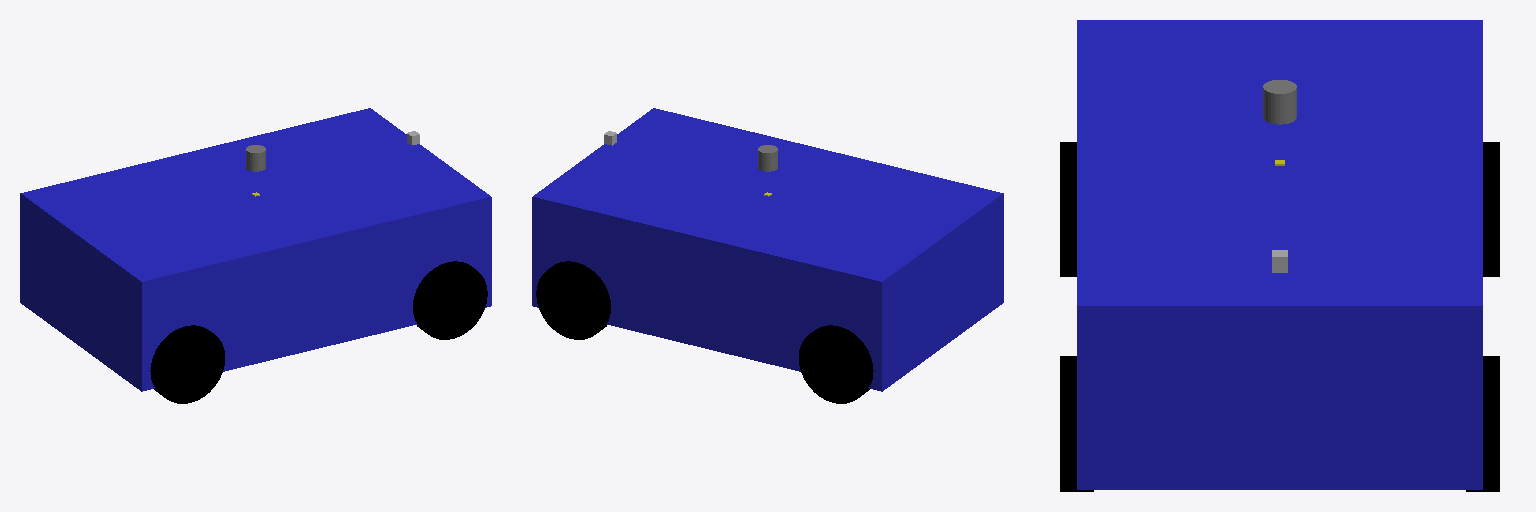
robot.urdf — yoda:
<?xml version="1.0"?>
<robot name="yoda">
  <!-- Material Definitions -->
  <material name="blue">
    <color rgba="0.2 0.2 0.8 1.0"/>
  </material>
  <material name="black">
    <color rgba="0 0 0 1"/>
  </material>
  <material name="gray">
    <color rgba="0.7 0.7 0.7 1.0"/>
  </material>
  <material name="dark_gray">
    <color rgba="0.5 0.5 0.5 1.0"/>
  </material>
  <material name="yellow">
    <color rgba="0.8 0.8 0.2 1.0"/>
  </material>

  <!-- Base Link -->
  <link name="base_link">
    <inertial>
      <mass value="1.0"/>
      <inertia ixx="1.0" ixy="0.0" ixz="0.0" iyy="1.0" iyz="0.0" izz="1.0"/>
    </inertial>
  </link>

  <!-- Chassis -->
  <link name="chassis">
    <visual>
      <geometry>
        <box size="2.0 1.2 0.6"/>
      </geometry>
      <material name="blue"/>
    </visual>
    <collision>
      <geometry>
        <box size="2.0 1.2 0.6"/>
      </geometry>
    </collision>
    <inertial>
      <mass value="50.0"/>
      <inertia ixx="10.0" ixy="0.0" ixz="0.0" iyy="10.0" iyz="0.0" izz="10.0"/>
    </inertial>
  </link>

  <joint name="base_to_chassis" type="fixed">
    <parent link="base_link"/>
    <child link="chassis"/>
    <origin xyz="0 0 0.3" rpy="0 0 0"/>
  </joint>

  <!-- Front Left Wheel -->
  <link name="front_left_wheel">
    <visual>
      <geometry>
        <cylinder radius="0.2" length="0.1"/>
      </geometry>
      <material name="black"/>
    </visual>
    <collision>
      <geometry>
        <cylinder radius="0.2" length="0.1"/>
      </geometry>
    </collision>
    <inertial>
      <mass value="2.0"/>
      <inertia ixx="0.1" ixy="0.0" ixz="0.0" iyy="0.1" iyz="0.0" izz="0.1"/>
    </inertial>
  </link>

  <joint name="front_left_wheel_joint" type="continuous">
    <parent link="chassis"/>
    <child link="front_left_wheel"/>
    <origin xyz="0.75 0.6 -0.2" rpy="-1.5707 0 0"/>
    <axis xyz="0 0 1"/>
  </joint>

  <!-- Front Right Wheel -->
  <link name="front_right_wheel">
    <visual>
      <geometry>
        <cylinder radius="0.2" length="0.1"/>
      </geometry>
      <material name="black"/>
    </visual>
    <collision>
      <geometry>
        <cylinder radius="0.2" length="0.1"/>
      </geometry>
    </collision>
    <inertial>
      <mass value="2.0"/>
      <inertia ixx="0.1" ixy="0.0" ixz="0.0" iyy="0.1" iyz="0.0" izz="0.1"/>
    </inertial>
  </link>

  <joint name="front_right_wheel_joint" type="continuous">
    <parent link="chassis"/>
    <child link="front_right_wheel"/>
    <origin xyz="0.75 -0.6 -0.2" rpy="-1.5707 0 0"/>
    <axis xyz="0 0 1"/>
  </joint>

  <!-- Rear Left Wheel -->
  <link name="rear_left_wheel">
    <visual>
      <geometry>
        <cylinder radius="0.2" length="0.1"/>
      </geometry>
      <material name="black"/>
    </visual>
    <collision>
      <geometry>
        <cylinder radius="0.2" length="0.1"/>
      </geometry>
    </collision>
    <inertial>
      <mass value="2.0"/>
      <inertia ixx="0.1" ixy="0.0" ixz="0.0" iyy="0.1" iyz="0.0" izz="0.1"/>
    </inertial>
  </link>

  <joint name="rear_left_wheel_joint" type="continuous">
    <parent link="chassis"/>
    <child link="rear_left_wheel"/>
    <origin xyz="-0.75 0.6 -0.2" rpy="-1.5707 0 0"/>
    <axis xyz="0 0 1"/>
  </joint>

  <!-- Rear Right Wheel -->
  <link name="rear_right_wheel">
    <visual>
      <geometry>
        <cylinder radius="0.2" length="0.1"/>
      </geometry>
      <material name="black"/>
    </visual>
    <collision>
      <geometry>
        <cylinder radius="0.2" length="0.1"/>
      </geometry>
    </collision>
    <inertial>
      <mass value="2.0"/>
      <inertia ixx="0.1" ixy="0.0" ixz="0.0" iyy="0.1" iyz="0.0" izz="0.1"/>
    </inertial>
  </link>

  <joint name="rear_right_wheel_joint" type="continuous">
    <parent link="chassis"/>
    <child link="rear_right_wheel"/>
    <origin xyz="-0.75 -0.6 -0.2" rpy="-1.5707 0 0"/>
    <axis xyz="0 0 1"/>
  </joint>

  <!-- Camera -->
  <link name="camera_link">
    <visual>
      <geometry>
        <box size="0.05 0.05 0.05"/>
      </geometry>
      <material name="gray"/>
    </visual>
    <collision>
      <geometry>
        <box size="0.05 0.05 0.05"/>
      </geometry>
    </collision>
    <inertial>
      <mass value="0.1"/>
      <inertia ixx="0.001" ixy="0.0" ixz="0.0" iyy="0.001" iyz="0.0" izz="0.001"/>
    </inertial>
  </link>

  <joint name="camera_joint" type="fixed">
    <parent link="chassis"/>
    <child link="camera_link"/>
    <origin xyz="0.9 0 0.4" rpy="0 0 0"/>
  </joint>

  <!-- LiDAR -->
  <link name="lidar_link">
    <visual>
      <geometry>
        <cylinder radius="0.05" length="0.1"/>
      </geometry>
      <material name="dark_gray"/>
    </visual>
    <collision>
      <geometry>
        <cylinder radius="0.05" length="0.1"/>
      </geometry>
    </collision>
    <inertial>
      <mass value="0.1"/>
      <inertia ixx="0.001" ixy="0.0" ixz="0.0" iyy="0.001" iyz="0.0" izz="0.001"/>
    </inertial>
  </link>

  <joint name="lidar_joint" type="fixed">
    <parent link="chassis"/>
    <child link="lidar_link"/>
    <origin xyz="0 0 0.5" rpy="0 0 0"/>
  </joint>

  <!-- IMU -->
  <link name="imu_link">
    <visual>
      <geometry>
        <box size="0.03 0.03 0.01"/>
      </geometry>
      <material name="yellow"/>
    </visual>
    <collision>
      <geometry>
        <box size="0.03 0.03 0.01"/>
      </geometry>
    </collision>
    <inertial>
      <mass value="0.1"/>
      <inertia ixx="0.001" ixy="0.0" ixz="0.0" iyy="0.001" iyz="0.0" izz="0.001"/>
    </inertial>
  </link>

  <joint name="imu_joint" type="fixed">
    <parent link="chassis"/>
    <child link="imu_link"/>
    <origin xyz="0 0 0.3" rpy="0 0 0"/>
  </joint>

  <!-- Gazebo specific elements -->
  <gazebo reference="chassis">
    <material>Gazebo/Blue</material>
  </gazebo>

  <gazebo reference="front_left_wheel">
    <material>Gazebo/Black</material>
    <mu1 value="1.0"/>
    <mu2 value="1.0"/>
  </gazebo>

  <gazebo reference="front_right_wheel">
    <material>Gazebo/Black</material>
    <mu1 value="1.0"/>
    <mu2 value="1.0"/>
  </gazebo>

  <gazebo reference="rear_left_wheel">
    <material>Gazebo/Black</material>
    <mu1 value="1.0"/>
    <mu2 value="1.0"/>
  </gazebo>

  <gazebo reference="rear_right_wheel">
    <material>Gazebo/Black</material>
    <mu1 value="1.0"/>
    <mu2 value="1.0"/>
  </gazebo>

  <!-- Camera Plugin -->
  <gazebo reference="camera_link">
    <sensor type="camera" name="camera">
      <update_rate>30.0</update_rate>
      <camera name="head">
        <horizontal_fov>1.3962634</horizontal_fov>
        <image>
          <width>800</width>
          <height>600</height>
          <format>R8G8B8</format>
        </image>
        <clip>
          <near>0.02</near>
          <far>300</far>
        </clip>
      </camera>
      <plugin name="camera_controller" filename="libgazebo_ros_camera.so">
        <alwaysOn>true</alwaysOn>
        <updateRate>0.0</updateRate>
        <cameraName>yoda/camera</cameraName>
        <frameName>camera_link</frameName>
        <ros>
          <namespace>/yoda</namespace>
          <argument>~/out:=camera/image_raw</argument>
        </ros>
      </plugin>
    </sensor>
  </gazebo>

  <!-- LiDAR Plugin -->
  <gazebo reference="lidar_link">
    <sensor type="ray" name="lidar">
      <pose>0 0 0 0 0 0</pose>
      <visualize>false</visualize>
      <update_rate>10</update_rate>
      <ray>
        <scan>
          <horizontal>
            <samples>360</samples>
            <resolution>1</resolution>
            <min_angle>-3.14159</min_angle>
            <max_angle>3.14159</max_angle>
          </horizontal>
          <vertical>
            <samples>360</samples>
            <resolution>1</resolution>
            <min_angle>-3.14159</min_angle>
            <max_angle>3.14159</max_angle>
          </vertical>
        </scan>
        <range>
          <min>0.3</min>
          <max>15.0</max>
          <resolution>0.01</resolution>
        </range>
      </ray>
      <plugin name="lidar_controller" filename="libgazebo_ros_ray_sensor.so">
        <ros>
          <namespace>/yoda</namespace>
          <argument>~/out:=lidar/scan</argument>
        </ros>
        <output_type>sensor_msgs/LaserScan</output_type>
        <frame_name>lidar_link</frame_name>
      </plugin>
    </sensor>
  </gazebo>

  <!-- IMU Plugin -->
  <gazebo reference="imu_link">
    <gravity>true</gravity>
    <sensor name="imu_sensor" type="imu">
      <always_on>true</always_on>
      <update_rate>100</update_rate>
      <visualize>true</visualize>
      <plugin name="imu_plugin" filename="libgazebo_ros_imu_sensor.so">
        <ros>
          <namespace>/yoda</namespace>
          <remapping>~/out:=imu/data</remapping>
        </ros>
        <frame_name>imu_link</frame_name>
      </plugin>
    </sensor>
  </gazebo>
</robot>

--- Render facts (derived) ---
The picture shows the robot from 3 angles, left to right: view 1: azimuth 30°, elevation 25°; view 2: azimuth 150°, elevation 25°; view 3: azimuth 270°, elevation 25°; orthographic projection.
Model yoda with 9 links and 8 joints (4 continuous, 4 fixed), rooted at base_link, posed all joints at 0.
Visible links, largest first — view 1: chassis, front_right_wheel, rear_right_wheel; view 2: chassis, front_left_wheel, rear_left_wheel; view 3: chassis, front_left_wheel, front_right_wheel, rear_left_wheel, rear_right_wheel, lidar_link.
Boxes of the visible links, bbox=[...] form: chassis: bbox=[20, 108, 491, 391]; front_right_wheel: bbox=[413, 261, 487, 339]; rear_right_wheel: bbox=[150, 325, 224, 403]; chassis: bbox=[532, 108, 1003, 391]; front_left_wheel: bbox=[536, 261, 610, 339]; rear_left_wheel: bbox=[799, 325, 873, 403]; chassis: bbox=[1077, 20, 1482, 489]; front_left_wheel: bbox=[1466, 356, 1499, 491]; front_right_wheel: bbox=[1060, 356, 1093, 491]; rear_left_wheel: bbox=[1483, 142, 1499, 276]; rear_right_wheel: bbox=[1060, 142, 1076, 276]; lidar_link: bbox=[1263, 80, 1296, 124].
Size in the robot's own frame: 2 by 1.3 by 0.95 metres.
Geometry: primitives only (box / cylinder / sphere), no mesh files.
